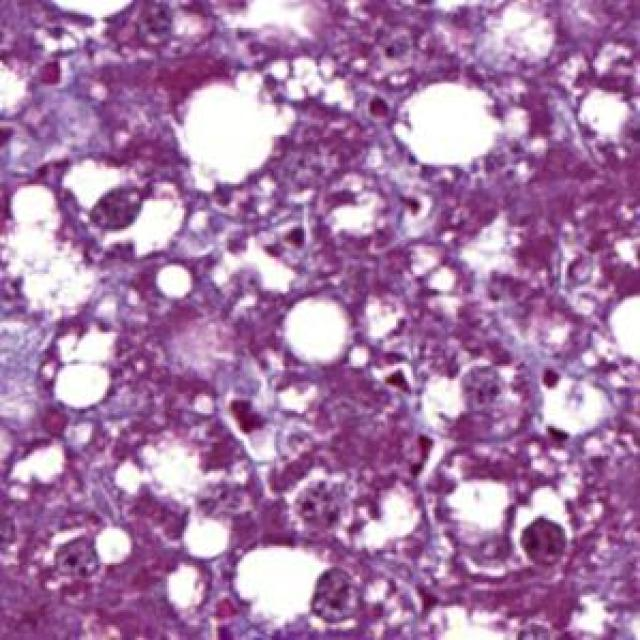steatosis: (180, 82, 287, 188), (280, 289, 358, 370)
